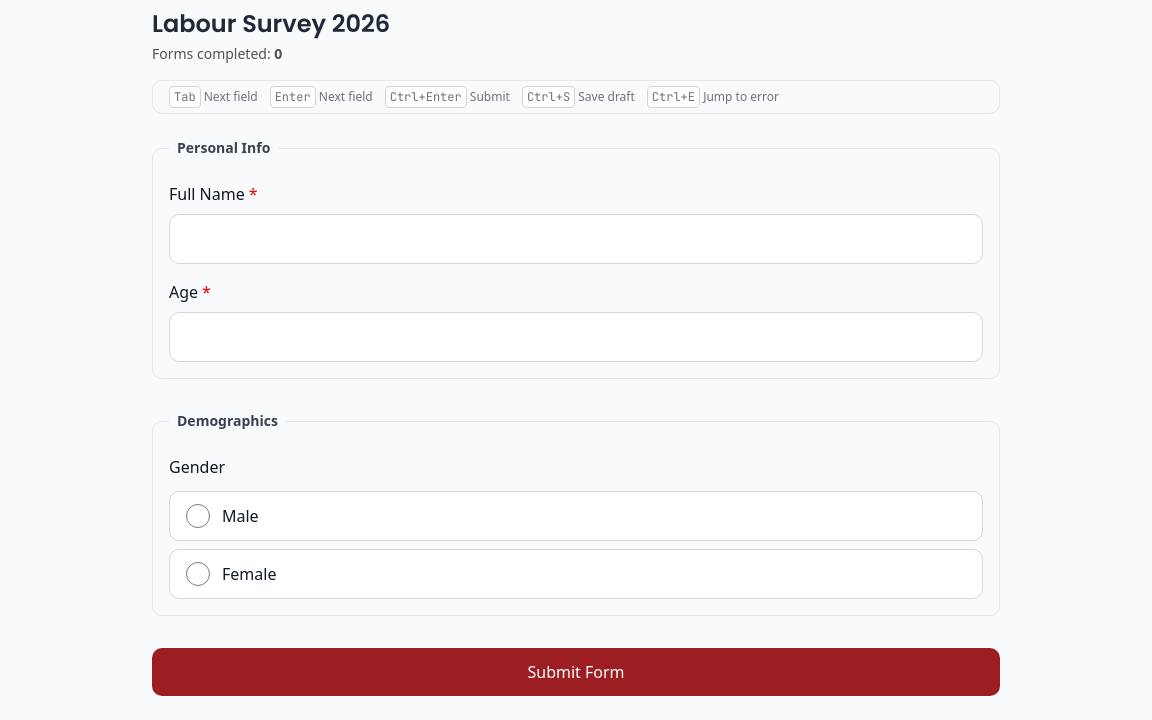
Test: ClerkDataEntryPage › Submit Button › shows validation errors on Submit Form click with empty required fields
This screenshot has width=1152, height=720.
(page scrolled)
Click the button with test id "submit-btn" at (576, 672), box [152,648,1000,696]
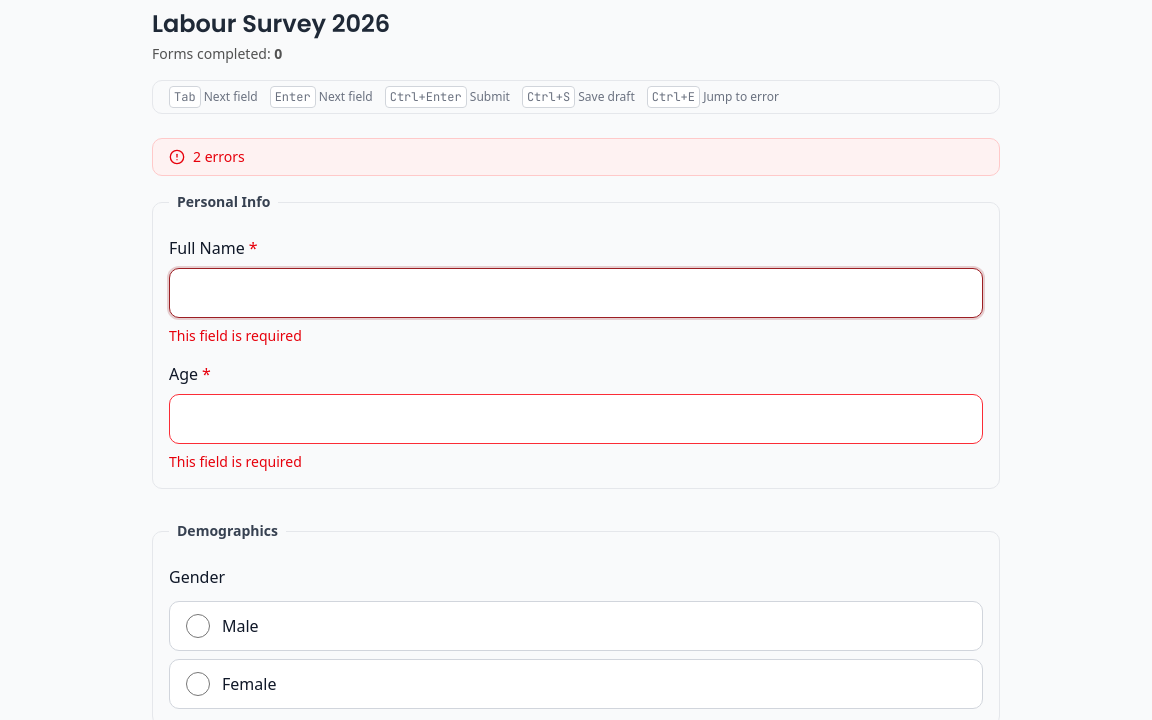
Check: the element with test id "error-count-badge" is shown, box [152,138,1000,176]
